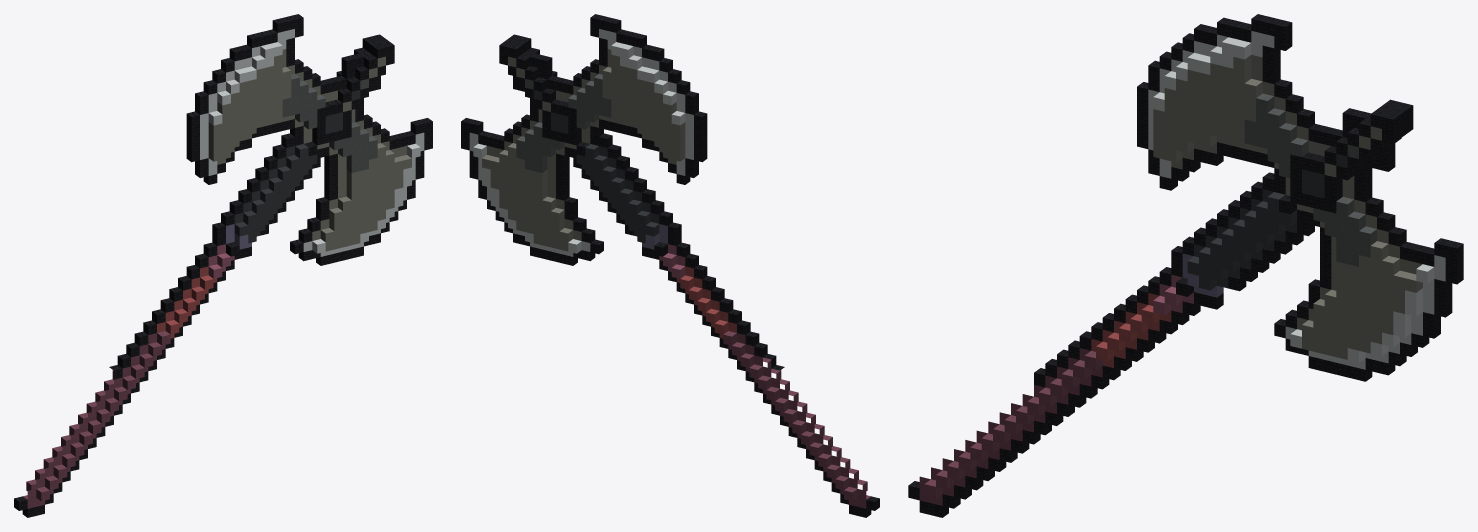
Rendered from AXE.glb.
3 views of the same model, side by side, from view 1: azimuth 30°, elevation 25°; view 2: azimuth 150°, elevation 25°; view 3: azimuth 330°, elevation 25° (orthographic). The views are drawn at different scales.
Visible parts, largest first — view 1: node_5, node_3, node_7, node_9, node_13, node_11, node_1, node_14, node_15; view 2: node_6, node_4, node_5, node_8, node_9, node_3, node_7, node_13, node_10, node_14, node_11, node_1 (+2 smaller); view 3: node_5, node_3, node_7, node_9, node_13, node_11, node_1, node_15.
Part boxes in pixels (left/top/right/bottom): node_5: left=264, top=121, right=411, bottom=265; node_3: left=264, top=14, right=394, bottom=147; node_7: left=186, top=31, right=273, bottom=168; node_9: left=152, top=163, right=273, bottom=323; node_13: left=27, top=354, right=135, bottom=501; node_11: left=126, top=315, right=191, bottom=393; node_1: left=402, top=118, right=432, bottom=199; node_14: left=26, top=370, right=113, bottom=490; node_15: left=14, top=493, right=53, bottom=517; node_6: left=482, top=129, right=624, bottom=253; node_4: left=499, top=41, right=624, bottom=145; node_5: left=487, top=121, right=629, bottom=265; node_8: left=620, top=44, right=685, bottom=161; node_9: left=625, top=163, right=741, bottom=323; node_3: left=504, top=14, right=629, bottom=147; node_7: left=625, top=31, right=707, bottom=168; node_13: left=763, top=354, right=867, bottom=499; node_10: left=620, top=188, right=719, bottom=323; node_14: left=758, top=375, right=857, bottom=501; node_11: left=702, top=315, right=771, bottom=393; node_1: left=461, top=118, right=491, bottom=199; node_5: left=1233, top=181, right=1429, bottom=381; node_3: left=1233, top=14, right=1406, bottom=216; node_7: left=1137, top=17, right=1245, bottom=172; node_9: left=1091, top=161, right=1246, bottom=352; node_13: left=919, top=359, right=1063, bottom=499; node_11: left=1050, top=331, right=1143, bottom=416; node_1: left=1416, top=238, right=1463, bottom=338; node_15: left=908, top=481, right=960, bottom=517.
Bounding box in the file's own units: 48 × 48 × 3.
1 material, 1 textured.
